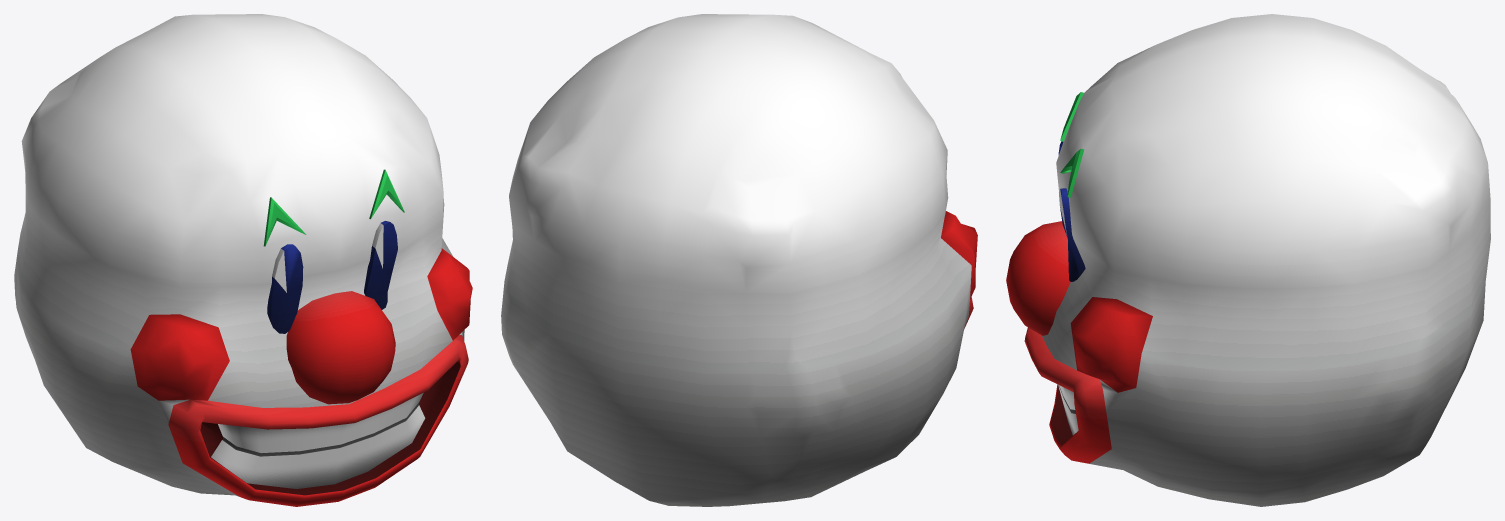
File: Clown_Head_Final.fbx
3 renders of one model, left to right at view 1: azimuth 30°, elevation 25°; view 2: azimuth 150°, elevation 25°; view 3: azimuth 270°, elevation 25°, orthographic. The views are drawn at different scales.
Parts seen in each view (by area): view 1: ClownHead; view 2: ClownHead; view 3: ClownHead.
Boxes of the visible parts, left/top/right/bottom form: ClownHead: left=14, top=14, right=472, bottom=506; ClownHead: left=501, top=14, right=977, bottom=506; ClownHead: left=1006, top=14, right=1490, bottom=506.
Size of the model in its own units: 52.1 by 57.26 by 56.75.
